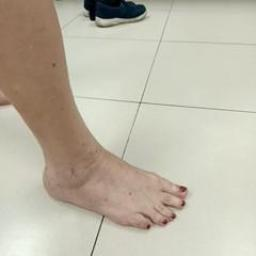Lateral View -Right Foot-: (21, 127, 206, 242)
